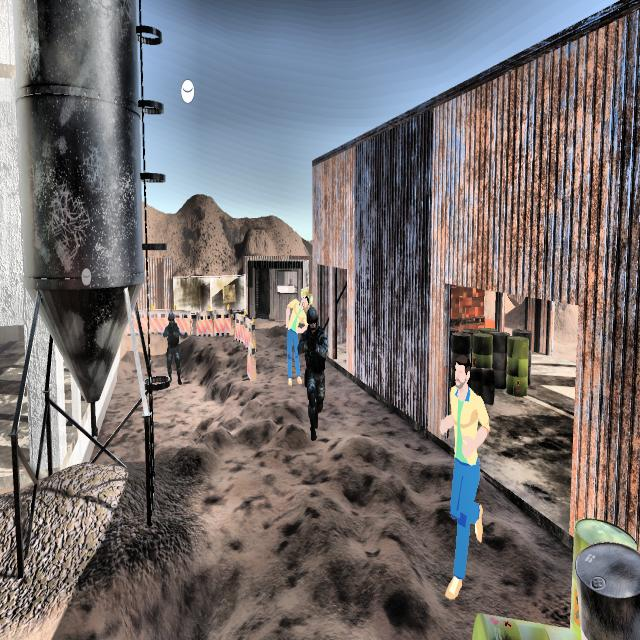bad: (299, 302, 334, 450), (160, 304, 187, 393)
good: (425, 325, 493, 610), (276, 275, 306, 398)
